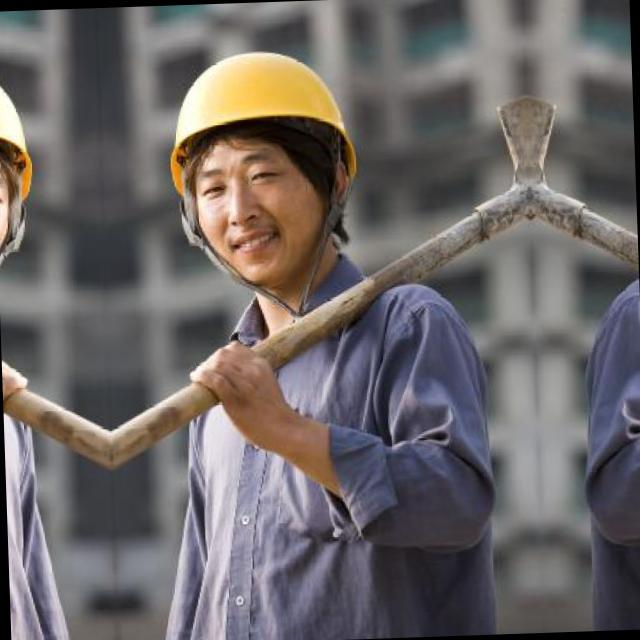helmet: (132, 33, 384, 294), (0, 44, 71, 300)
